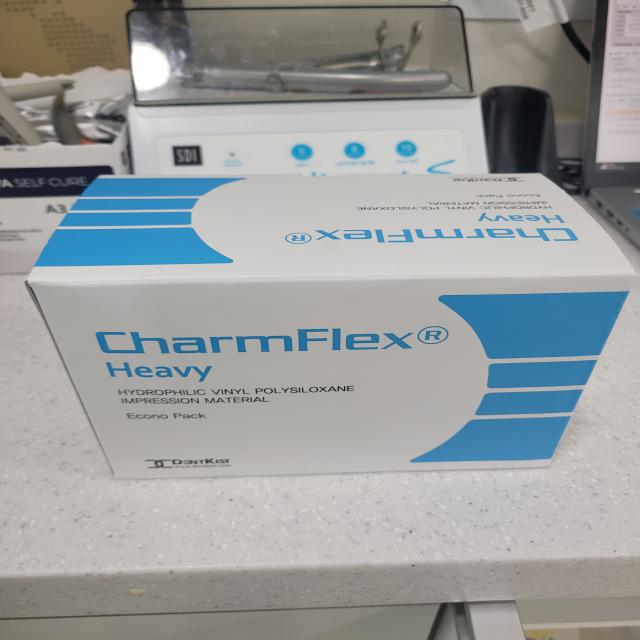impression: (18, 155, 640, 500)
